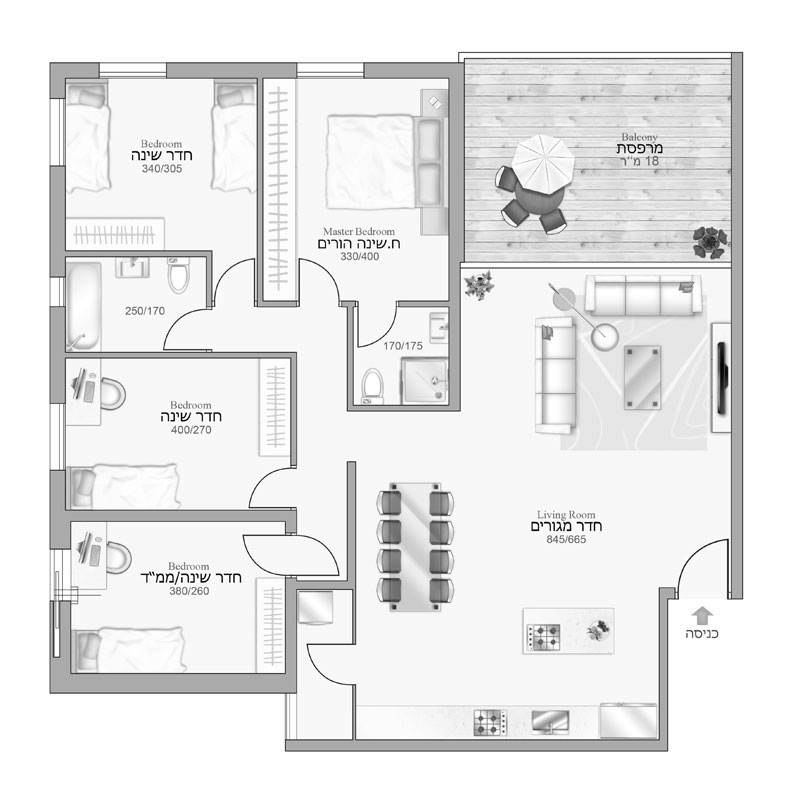room: (257, 61, 461, 307), (50, 510, 297, 693), (50, 353, 297, 523), (49, 63, 263, 257), (49, 250, 212, 358)
